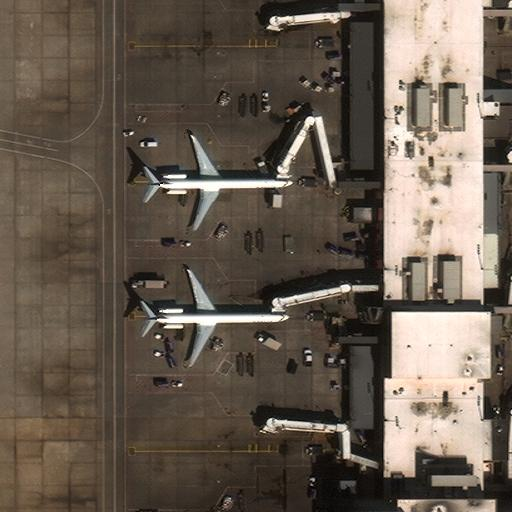Medium Civil Transport: (145, 269, 290, 366), (148, 135, 293, 229)
